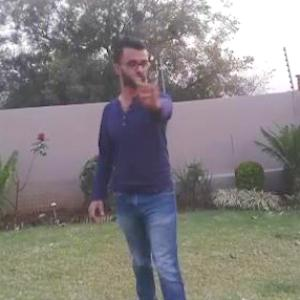takeoff-hand: (131, 67, 167, 108)
